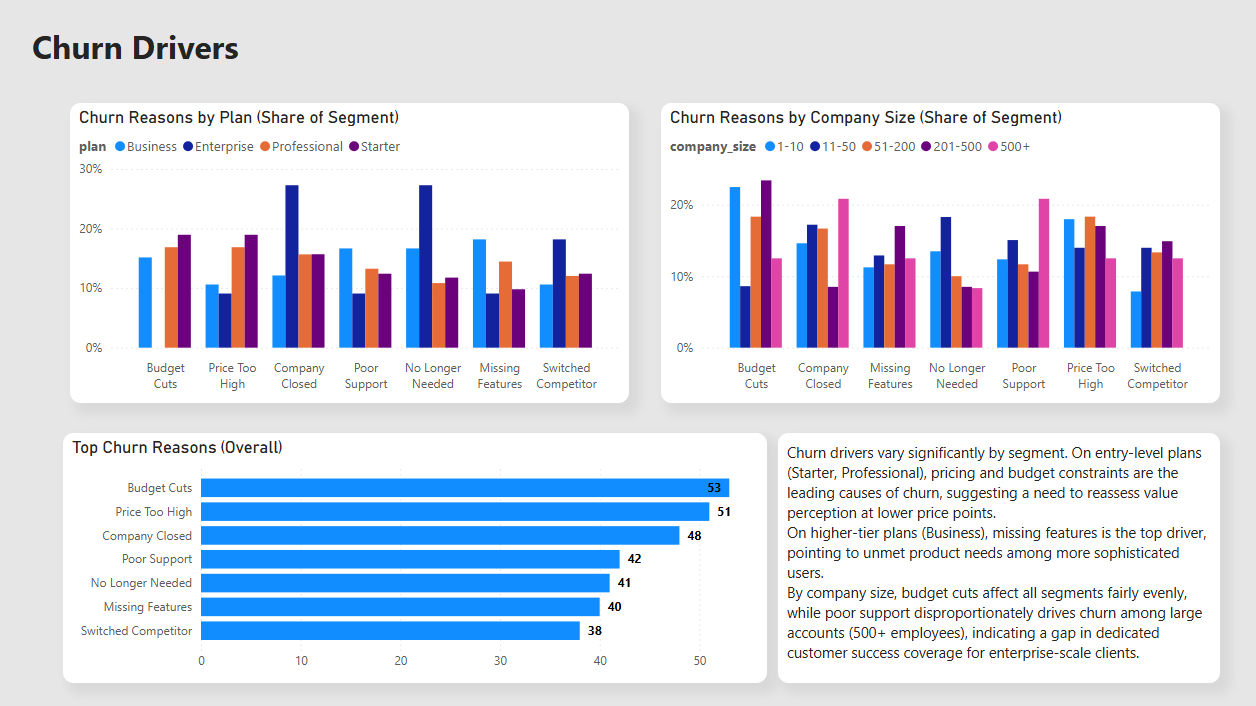

What the dashboard file says about the page in this screenshot:
{"tool":"powerbi","page":{"name":"Churn Reasons","canvas":[1280,720],"ordinal":1},"visuals":[{"type":"clusteredColumnChart","title":"Churn Reasons by Company Size (Share of Segment)","fields":{"Category":["Subscription.churn_reason"],"Y":["Measures (2).Pct Reason within Segment"],"Series":["Subscription.company_size"]},"box":[672,113,559,300],"z":0},{"type":"clusteredColumnChart","title":"Churn Reasons by Plan (Share of Segment)","fields":{"Category":["Subscription.churn_reason"],"Series":["Subscription.plan"],"Y":["Measures (2).Pct Reason within Segment"]},"box":[81,113,559,300],"z":1000},{"type":"barChart","title":"Top Churn Reasons (Overall)","fields":{"Y":["Measures (2).Churned Customers Count"],"Category":["Subscription.churn_reason"]},"box":[74,443,704,250],"z":2000},{"type":"textbox","box":[38,29,351.3,63.1],"z":3000},{"type":"textbox","box":[789,443,442,250],"z":3001}]}

Visuals, with their boxes in screenshot pixels (x1, y1, x2, y2), scaled from the page's 1280x720 canvas onto the 1256x706 screenshot:
"Churn Reasons by Company Size (Share of Segment)" clusteredColumnChart: [659,111,1208,405]
"Churn Reasons by Plan (Share of Segment)" clusteredColumnChart: [79,111,628,405]
"Top Churn Reasons (Overall)" barChart: [73,434,763,680]
textbox: [37,28,382,90]
textbox: [774,434,1208,680]
